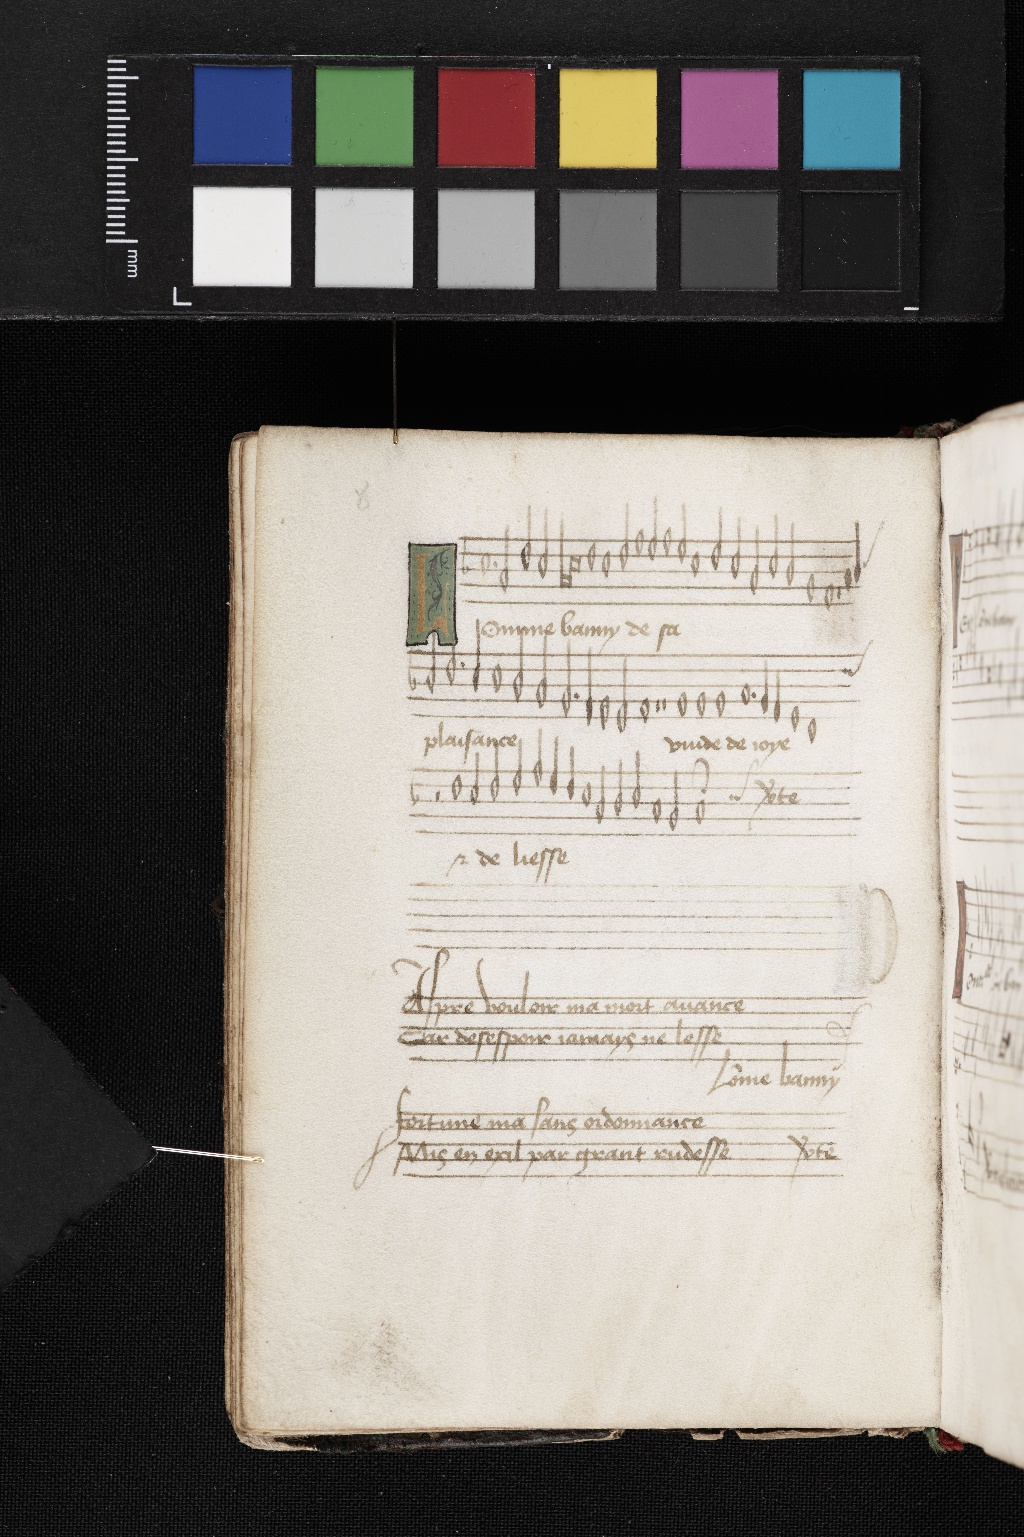custos_6: (726, 772, 752, 806)
fermata: (686, 750, 715, 801)
flat_7: (403, 760, 422, 814)
minim rest: (430, 770, 443, 836)
minim_3: (529, 730, 546, 792)
minim_5: (486, 743, 503, 807), (512, 738, 526, 800)
minim_6: (467, 749, 483, 811), (630, 768, 645, 814)
minim_7: (611, 767, 626, 822)
minim_8: (592, 761, 608, 830)
minim_9: (664, 767, 682, 836)
semibreve_5: (447, 768, 465, 807)
semibreve_6: (578, 776, 595, 812)
semibreve_8: (693, 796, 712, 833), (648, 793, 665, 828)
semiminim_4: (546, 731, 561, 803)
semiminim_5: (565, 741, 578, 808)
